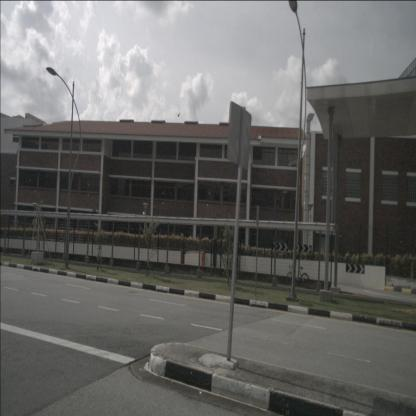vehicle-bicycle: (287, 262, 309, 289)
